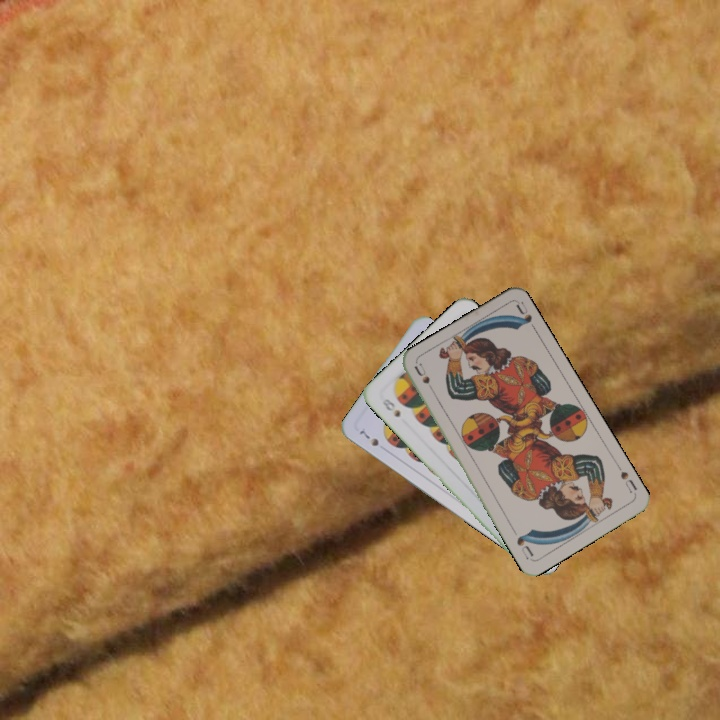S7: (355, 426, 381, 449)
S8: (378, 394, 403, 420)
SU: (410, 360, 439, 398), (613, 460, 640, 496)
